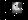person: (13, 4, 23, 18)
